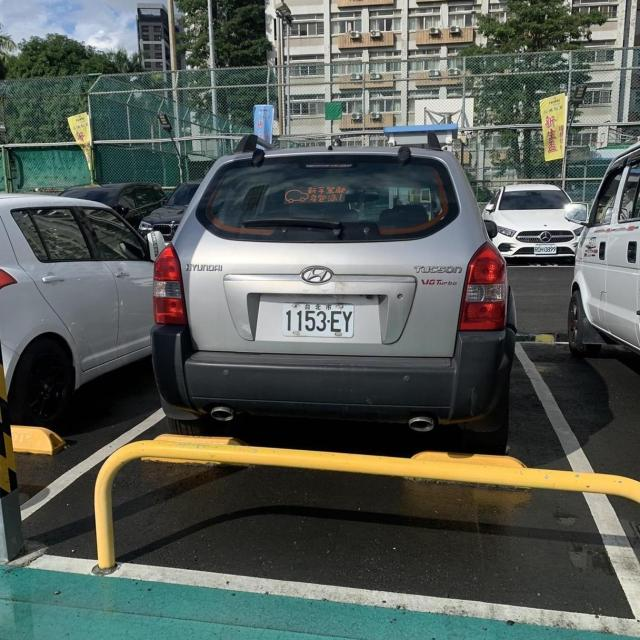W: (278, 297, 359, 343)
